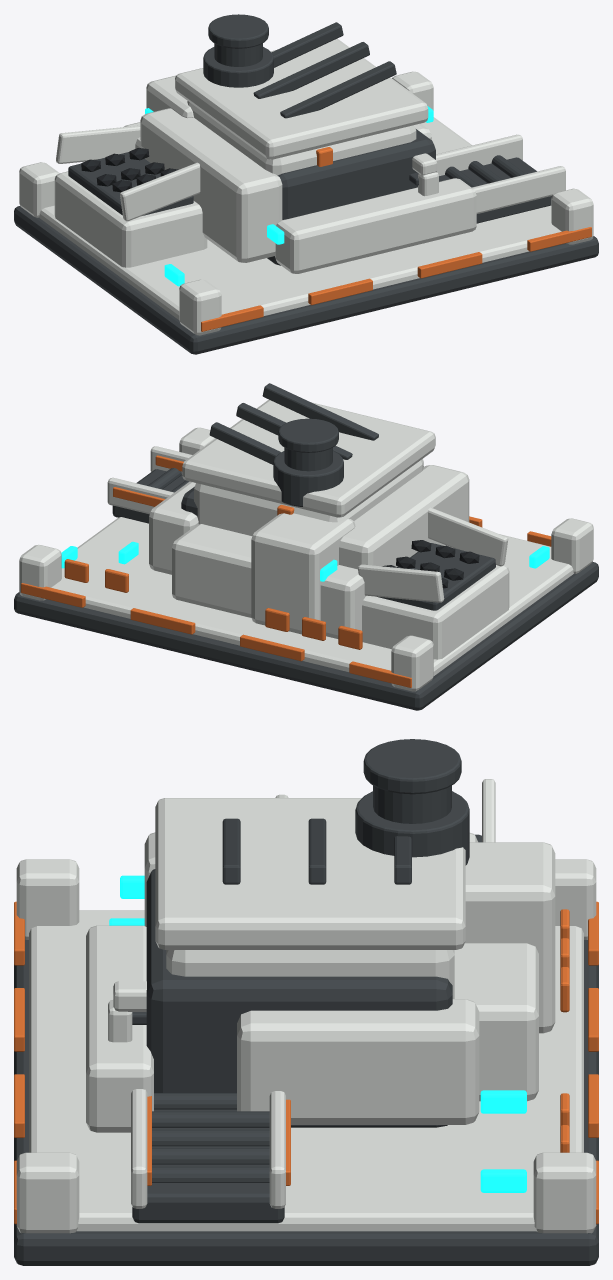
The model's file is SM_Steelworks_Main.fbx.
3 views of the same model, one above another, from view 1: azimuth 30°, elevation 25°; view 2: azimuth 150°, elevation 25°; view 3: azimuth 270°, elevation 25° (orthographic). The views are drawn at different scales.
Visible parts, largest first — view 1: SM_Steelworks_Main; view 2: SM_Steelworks_Main; view 3: SM_Steelworks_Main.
Boxes of the visible parts, box(x1,y1,x2,y2) form: SM_Steelworks_Main: box(14, 14, 598, 354); SM_Steelworks_Main: box(14, 383, 598, 710); SM_Steelworks_Main: box(14, 739, 598, 1265).
Bounding box in the file's own units: 563 × 430 × 262.
